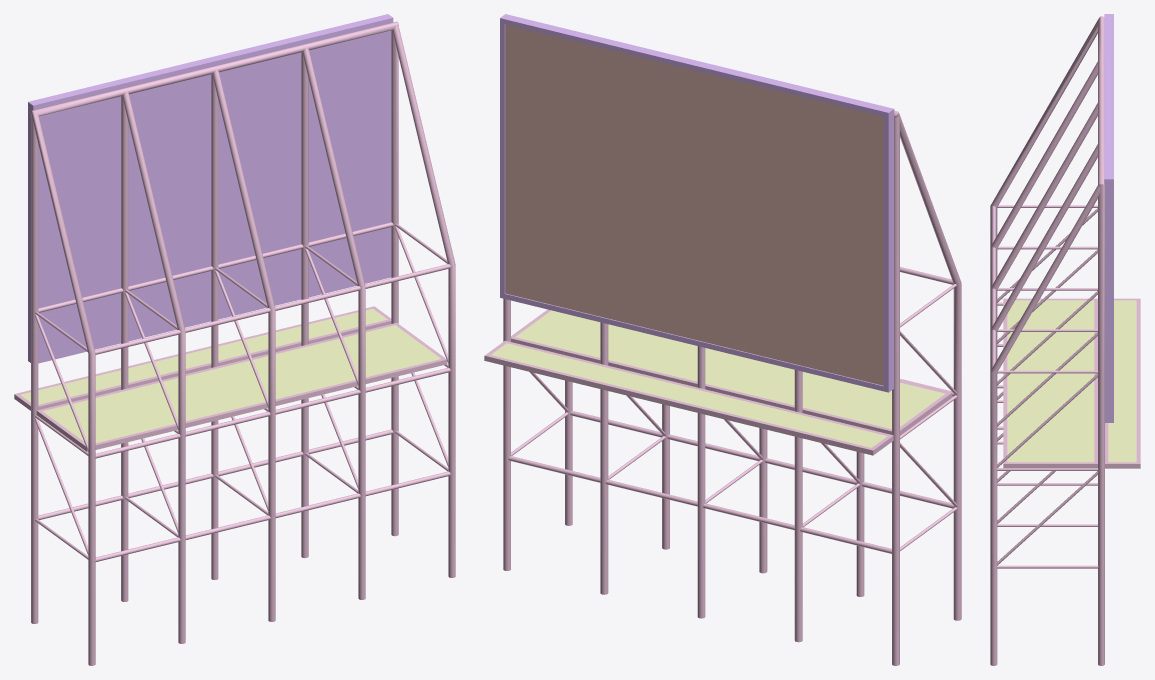
Rendered from Billboard_5.fbx.
The picture shows the model from 3 angles, left to right: view 1: azimuth 30°, elevation 25°; view 2: azimuth 150°, elevation 25°; view 3: azimuth 270°, elevation 25°; orthographic projection. The views are drawn at different scales.
Parts seen in each view (by area): view 1: Billboard_5; view 2: Billboard_5; view 3: Billboard_5.
Boxes of the visible parts, x1,y1,x2,y2 form: Billboard_5: (14,14,455,665); Billboard_5: (484,14,961,665); Billboard_5: (990,14,1140,665).
Size of the model in its own units: 814 by 1095 by 307.
